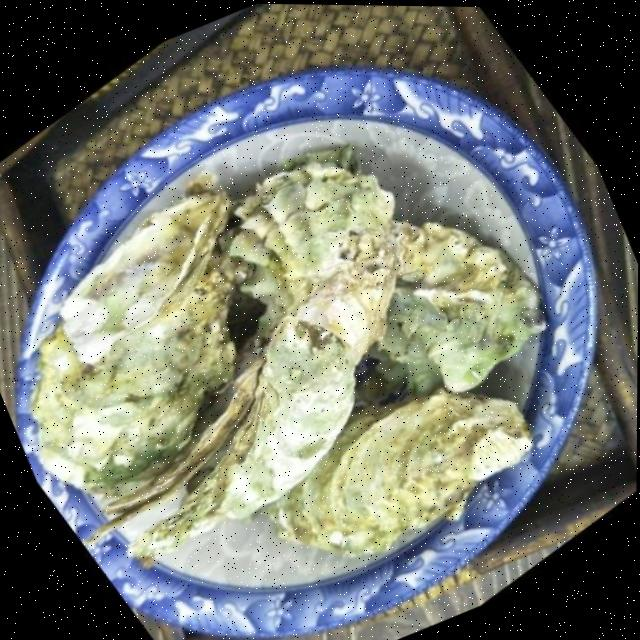Oyster-Indeterminate: (0, 163, 319, 507), (248, 361, 549, 591), (322, 170, 563, 422), (202, 127, 426, 342)
Oyster-Open: (51, 241, 462, 572)
